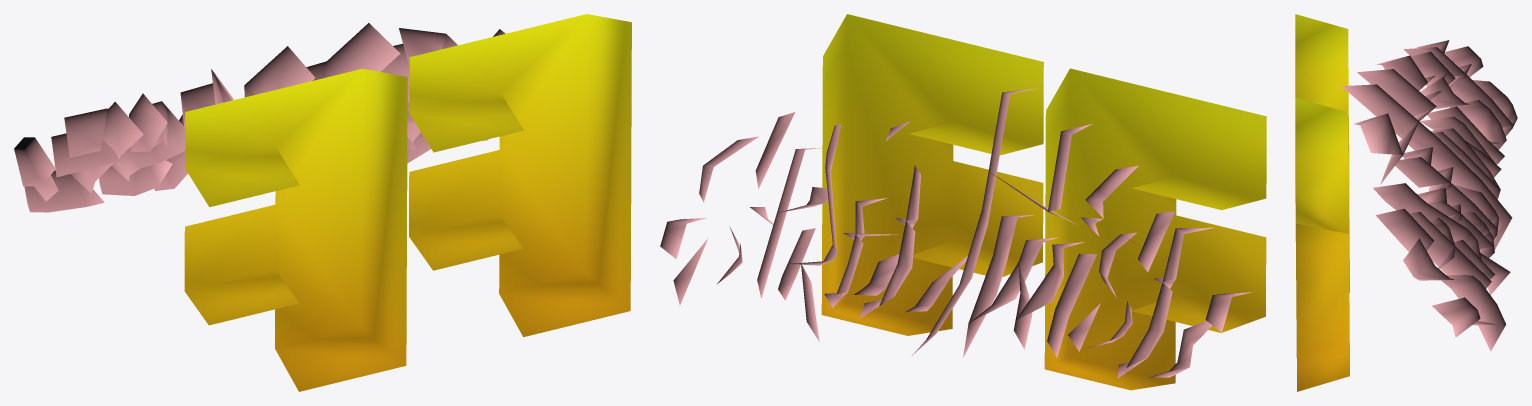
File: ps2_save-icons_finalfightstreetwise.glb
3 views of the same model, side by side, from view 1: azimuth 30°, elevation 25°; view 2: azimuth 150°, elevation 25°; view 3: azimuth 270°, elevation 25° (orthographic). The views are drawn at different scales.
Parts seen in each view (by area): view 1: MAXIMO1.ICO; view 2: MAXIMO1.ICO; view 3: MAXIMO1.ICO.
Part boxes in pixels (x1,y1,x2,y2): MAXIMO1.ICO: (14, 14, 631, 391); MAXIMO1.ICO: (660, 14, 1266, 390); MAXIMO1.ICO: (1295, 14, 1517, 391).
Bounding box in the file's own units: 4.21 × 2.12 × 1.86.
1 material, 1 textured.
